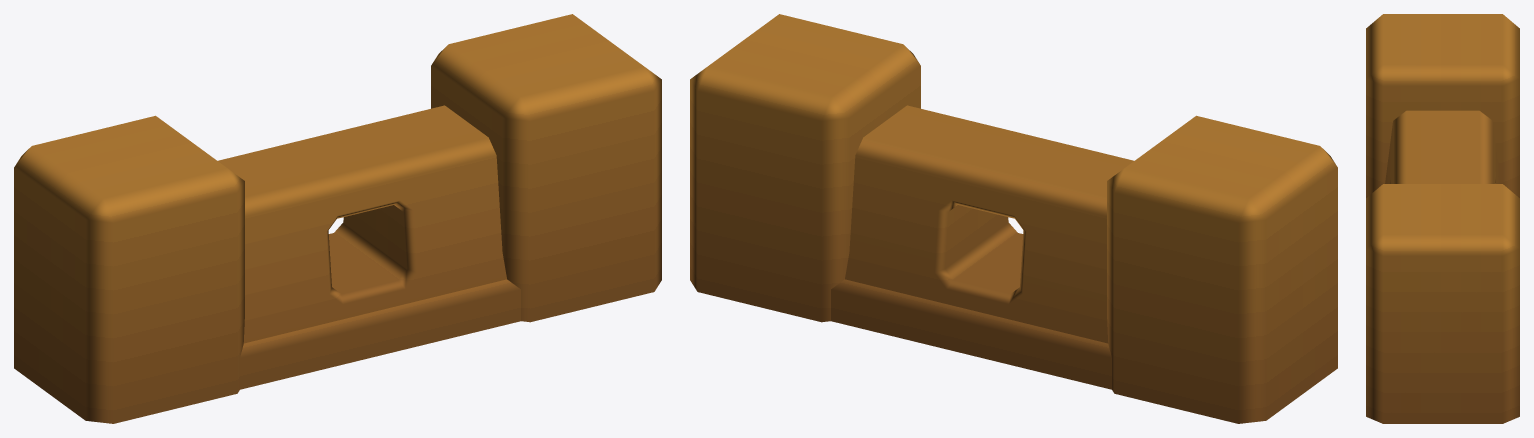
File: Fences.fbx
3 views of the same model, side by side, from view 1: azimuth 30°, elevation 25°; view 2: azimuth 150°, elevation 25°; view 3: azimuth 270°, elevation 25° (orthographic). The views are drawn at different scales.
Parts seen in each view (by area): view 1: Fence, FenceSeg; view 2: Fence, FenceSeg; view 3: Fence, FenceSeg.
Boxes of the visible parts, x1,y1,x2,y2 form: Fence: (14, 14, 661, 423); FenceSeg: (244, 155, 506, 342); Fence: (690, 14, 1337, 423); FenceSeg: (845, 156, 1107, 343); Fence: (1366, 14, 1519, 423); FenceSeg: (1385, 125, 1500, 183).
Size of what is drawn, in the model's own units: 1.38 by 0.3822 by 0.5001.
